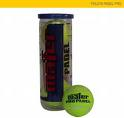tennis ball: (60, 85, 94, 117)
